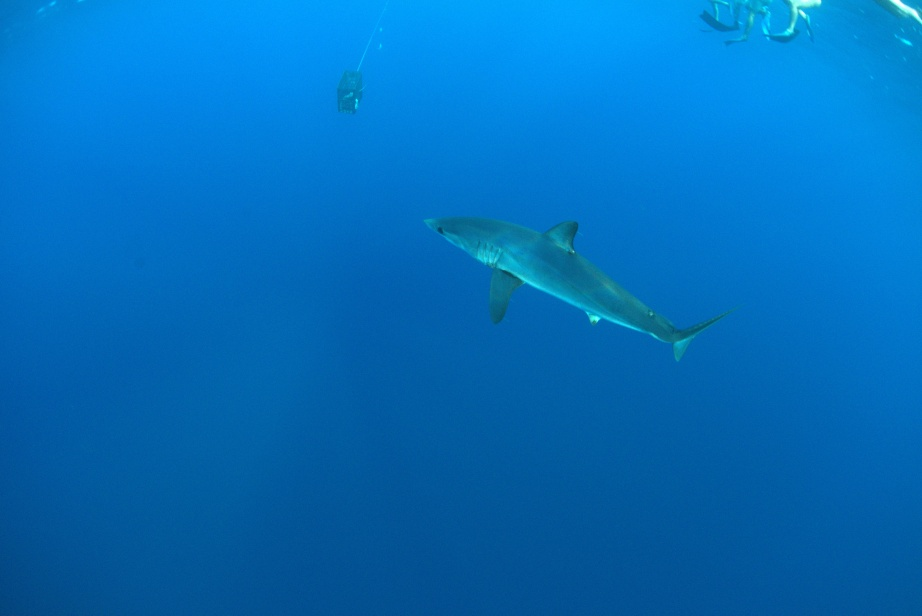Mako: (390, 195, 752, 388)
